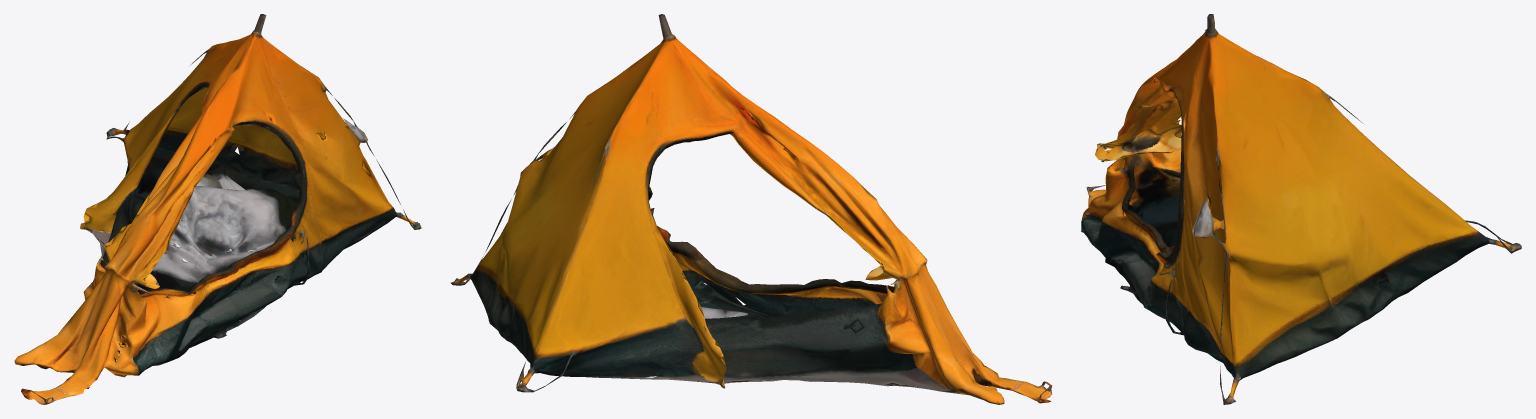
The model's file is tent.glb.
The picture shows the model from 3 angles, left to right: view 1: azimuth 30°, elevation 25°; view 2: azimuth 150°, elevation 25°; view 3: azimuth 270°, elevation 25°; orthographic projection. The views are drawn at different scales.
Size of the model in its own units: 0.8891 by 0.5468 by 0.6601.
Materials: 1 (1 with a texture image).
